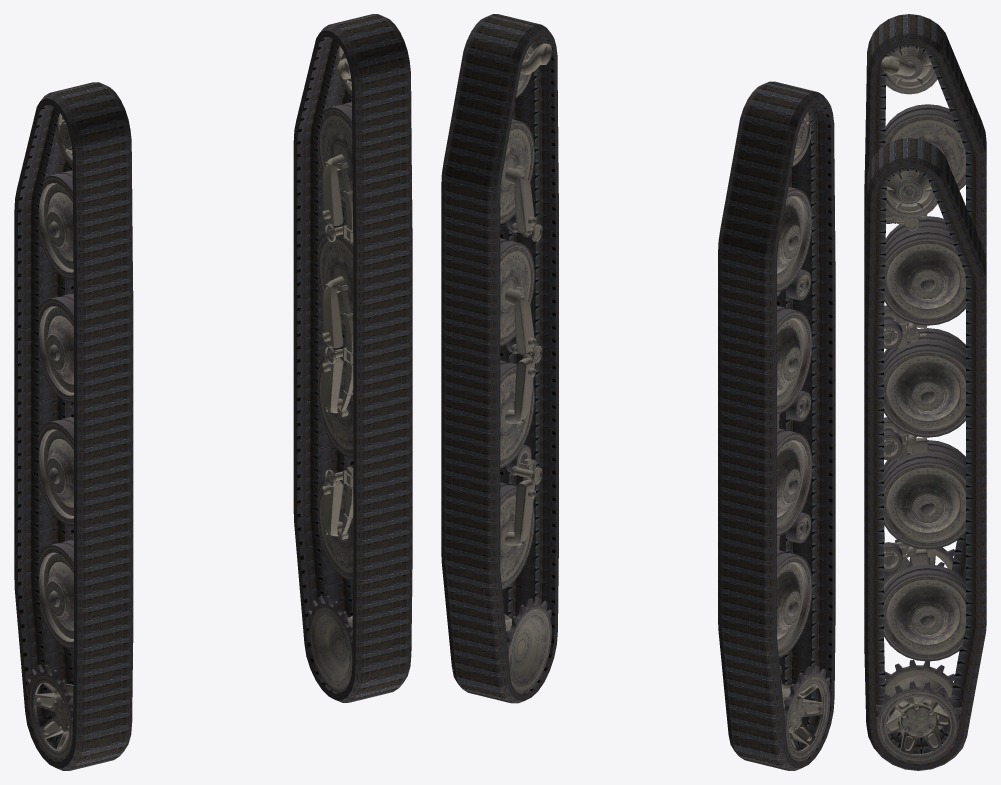
The model's file is Chassis.glb.
The picture shows the model from 3 angles, left to right: view 1: azimuth 30°, elevation 25°; view 2: azimuth 150°, elevation 25°; view 3: azimuth 270°, elevation 25°; orthographic projection. The views are drawn at different scales.
Visible parts, largest first — view 1: set_0_group_0, set_1_group_0, set_3_group_0, set_2_group_0; view 2: set_0_group_0, set_1_group_0, set_3_group_0, set_2_group_0; view 3: set_3_group_0, set_1_group_0, set_0_group_0, set_2_group_0.
Boxes of the visible parts, bbox=[...] form: set_0_group_0: bbox=[14, 82, 133, 770]; set_1_group_0: bbox=[293, 14, 412, 702]; set_3_group_0: bbox=[308, 45, 353, 692]; set_2_group_0: bbox=[27, 113, 73, 761]; set_0_group_0: bbox=[718, 81, 835, 770]; set_1_group_0: bbox=[441, 14, 558, 703]; set_3_group_0: bbox=[451, 43, 552, 693]; set_2_group_0: bbox=[777, 112, 830, 761]; set_3_group_0: bbox=[876, 171, 966, 764]; set_1_group_0: bbox=[864, 138, 986, 770]; set_0_group_0: bbox=[864, 14, 986, 580]; set_2_group_0: bbox=[881, 47, 965, 588].
Bounding box in the file's own units: 3.13 × 6.03 × 1.09.
Materials: 4 (4 with a texture image).
